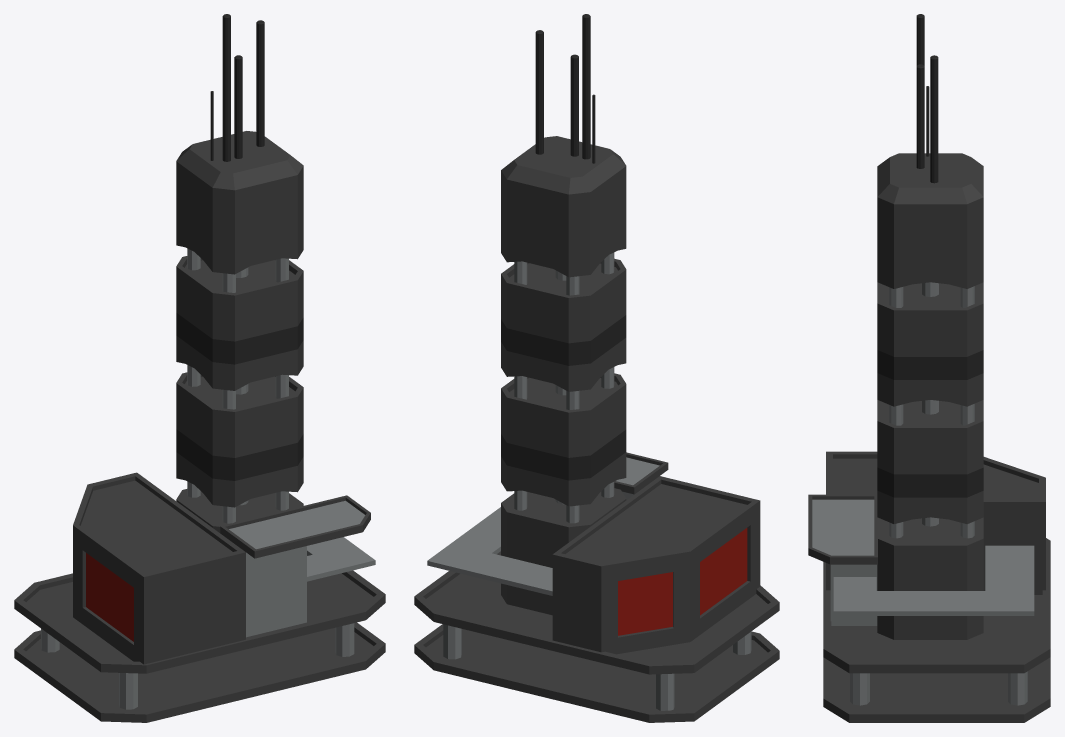
The model's file is Comms Tower.fbx.
The picture shows the model from 3 angles, left to right: view 1: azimuth 30°, elevation 25°; view 2: azimuth 150°, elevation 25°; view 3: azimuth 270°, elevation 25°; orthographic projection. The views are drawn at different scales.
Visible parts, largest first — view 1: Comms_Tower; view 2: Comms_Tower; view 3: Comms_Tower.
Boxes of the visible parts, x1=… form: Comms_Tower: x1=14, y1=14, x2=385, y2=722; Comms_Tower: x1=414, y1=14, x2=779, y2=722; Comms_Tower: x1=808, y1=14, x2=1050, y2=722.
Bounding box in the file's own units: 2.56 × 5.5 × 1.87.
